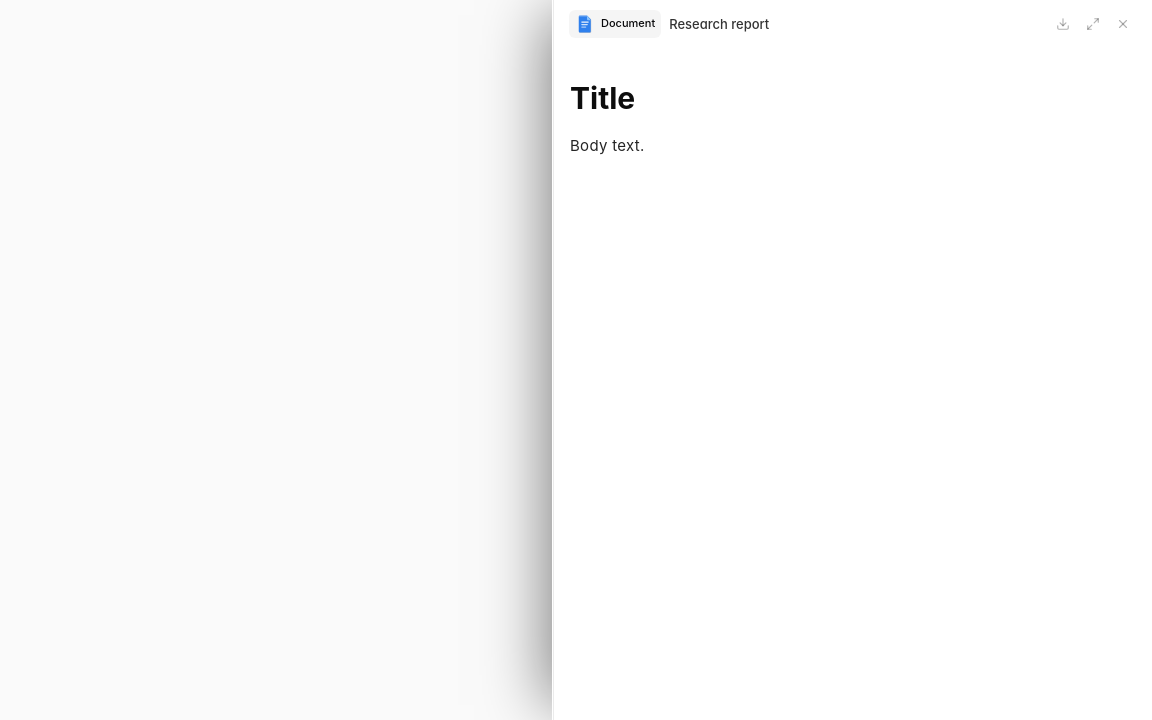
Test case: ArtifactPanel › offers PDF and Markdown for a document artifact
This screenshot has width=1152, height=720.
Click the button with test id "artifact-download". click: point(1063, 24)
box: [1050,11,1076,37]
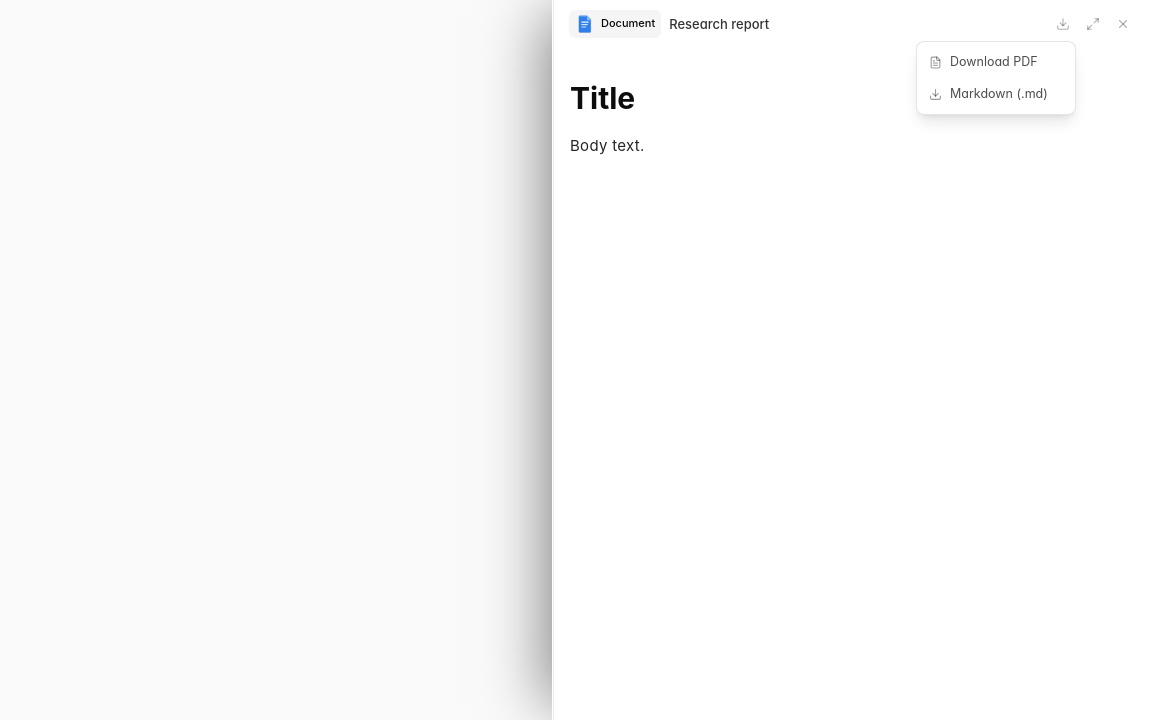
Result: the menu item with test id "artifact-download-pdf" is shown at [917,46,1075,78]
Result: the menu item with test id "artifact-download-md" is shown at [917,78,1075,110]
